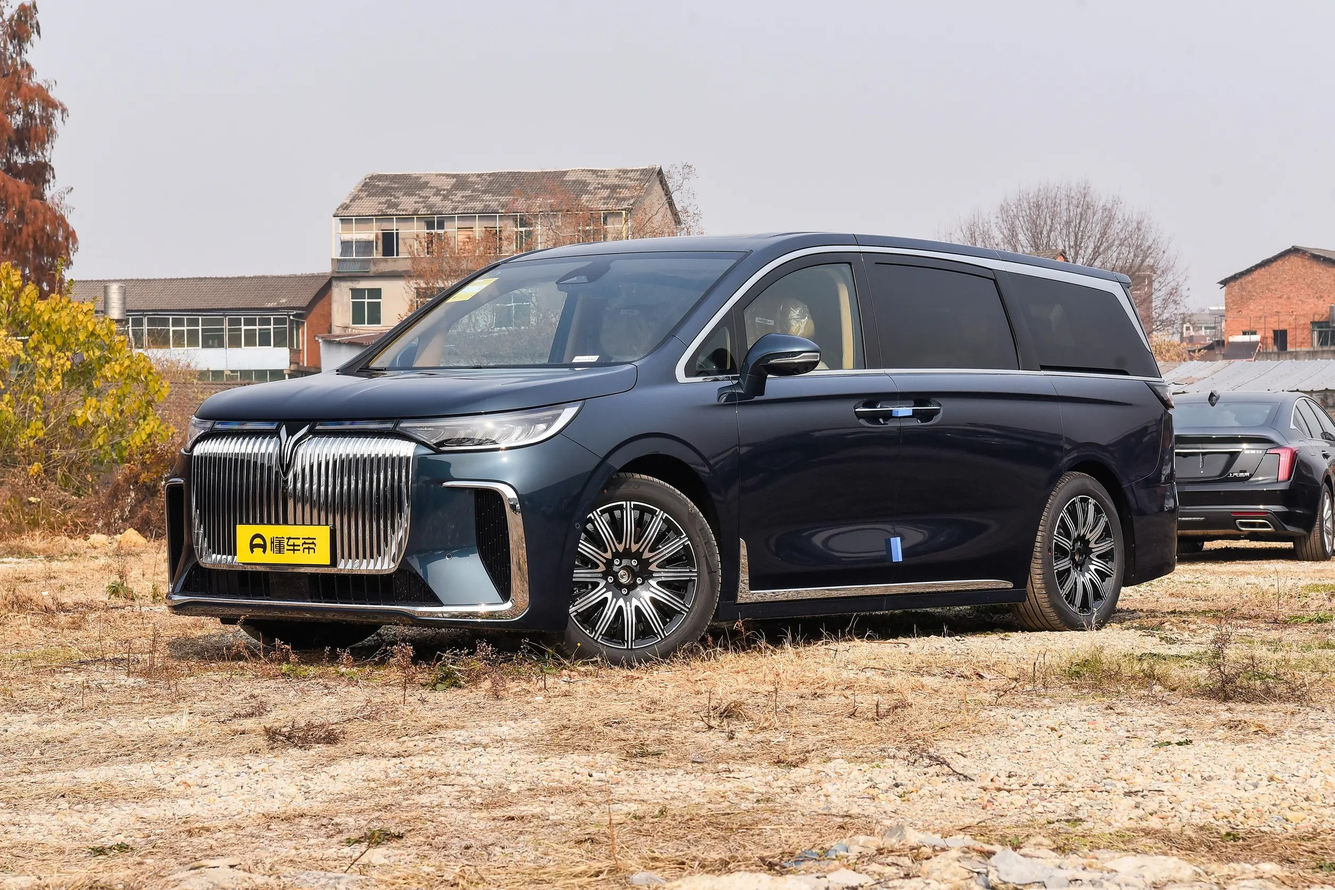VOYAH: (279, 424, 309, 471)
